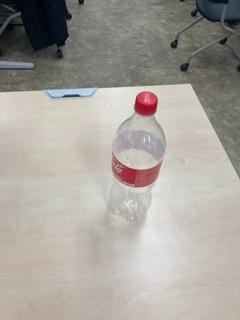BIODEGRADABLE: (108, 88, 167, 230)
